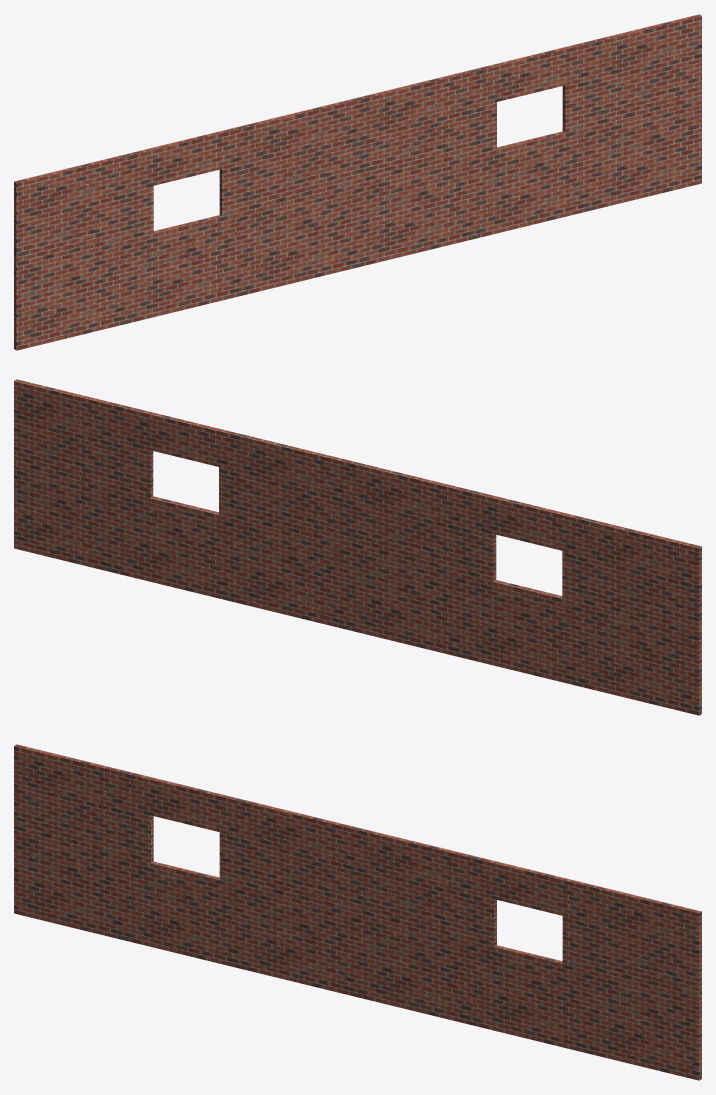
The model's file is windowWall1.obj.
3 renders of one model, top to bottom at view 1: azimuth 30°, elevation 25°; view 2: azimuth 150°, elevation 25°; view 3: azimuth 330°, elevation 25°, orthographic.
Visible parts, largest first — view 1: Mesh1 Difference Model; view 2: Mesh1 Difference Model; view 3: Mesh1 Difference Model.
Part boxes in pixels (x1=…): Mesh1 Difference Model: x1=14, y1=14, x2=701, y2=350; Mesh1 Difference Model: x1=14, y1=379, x2=701, y2=715; Mesh1 Difference Model: x1=14, y1=744, x2=701, y2=1080.
Bounding box in the file's own units: 15 × 3.5 × 0.1.
Materials: 1 (1 with a texture image).
